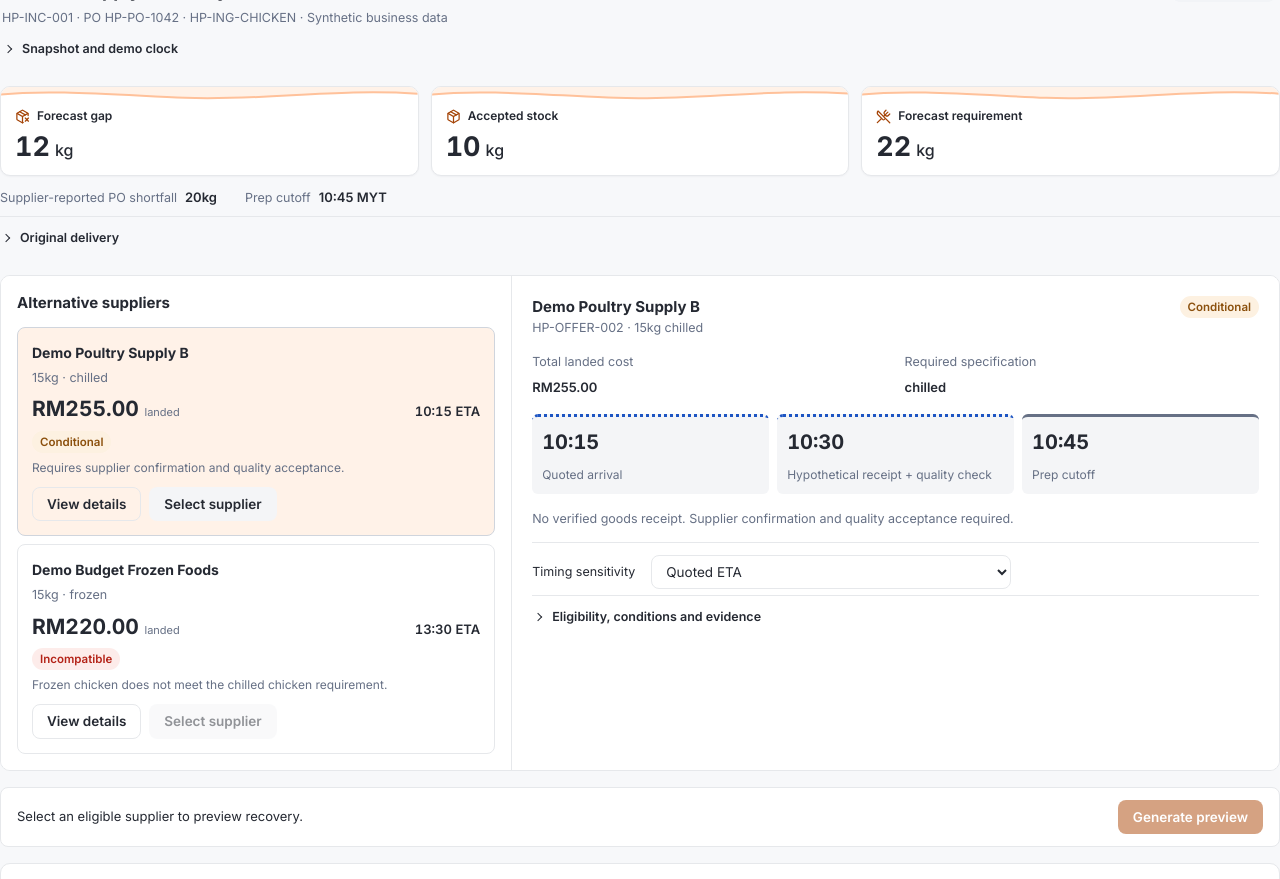
Test case: labels synthetic quotes and calculation, and exposes no purchasing or approval controls
Click the button with aria-label "Select HP-OFFER-002" at x=213, y=504, box top-left (149, 487), bottom-right (277, 521)
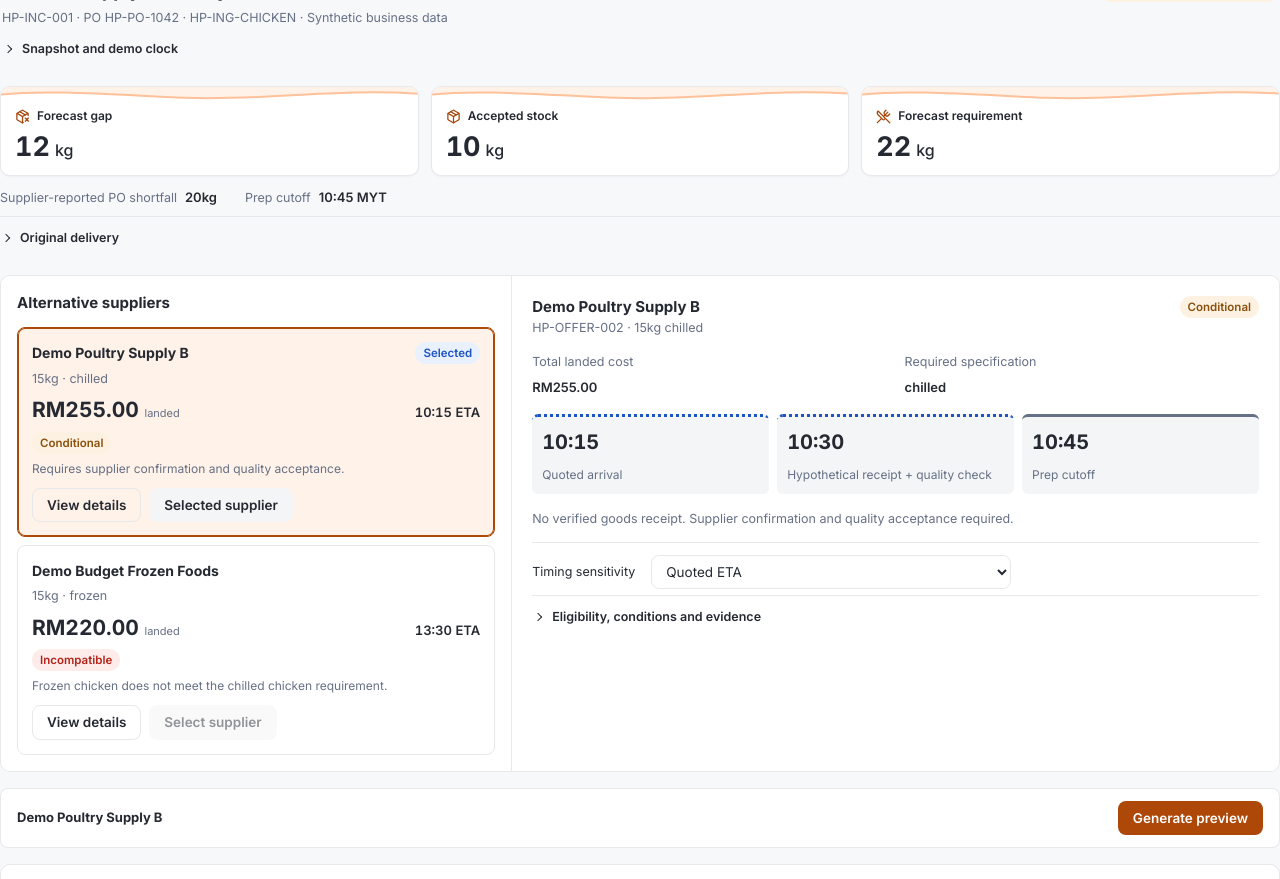
Click the button "Generate preview" at x=1190, y=818, box top-left (1118, 801), bottom-right (1263, 835)
(page scrolled)
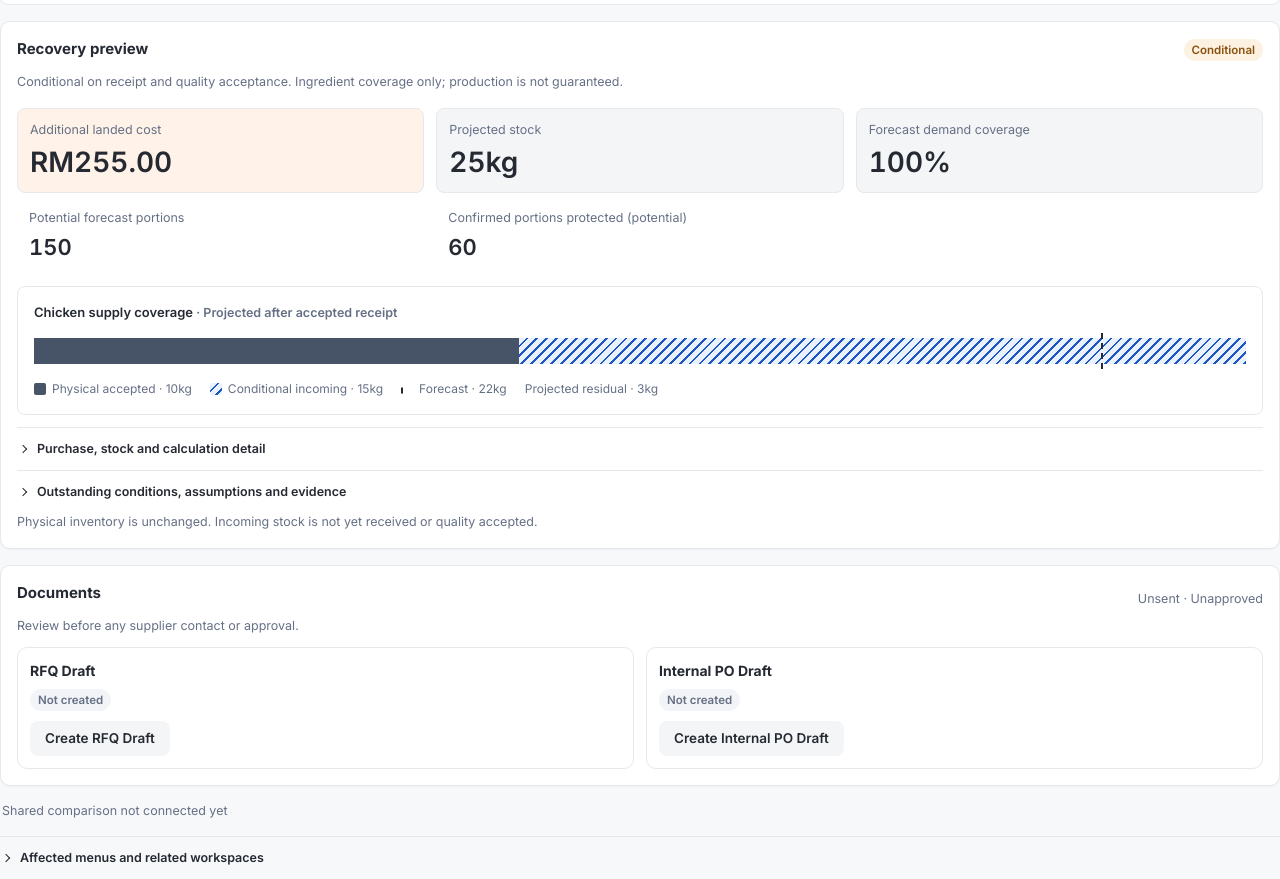
Check: the heading "Recovery preview" is shown, box top-left (17, 38), bottom-right (148, 61)
